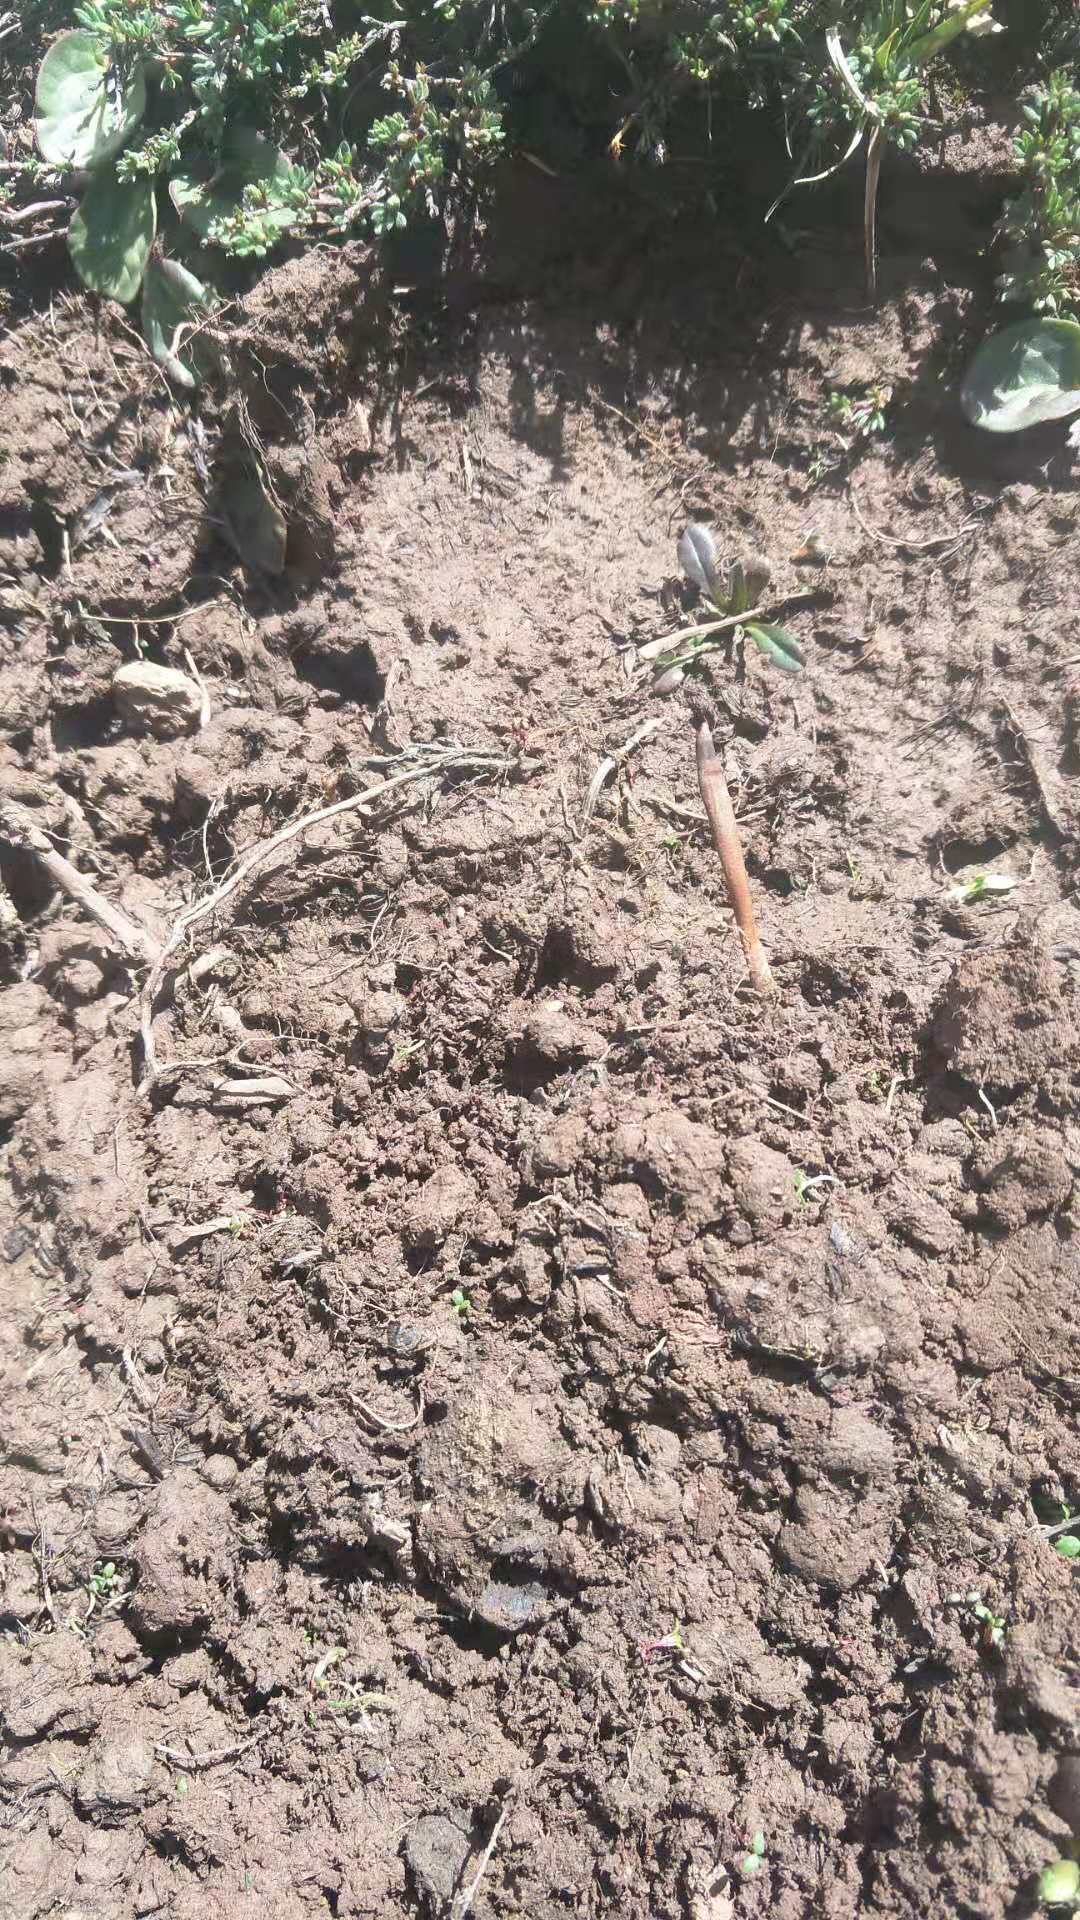cpf: (688, 716, 791, 992)
